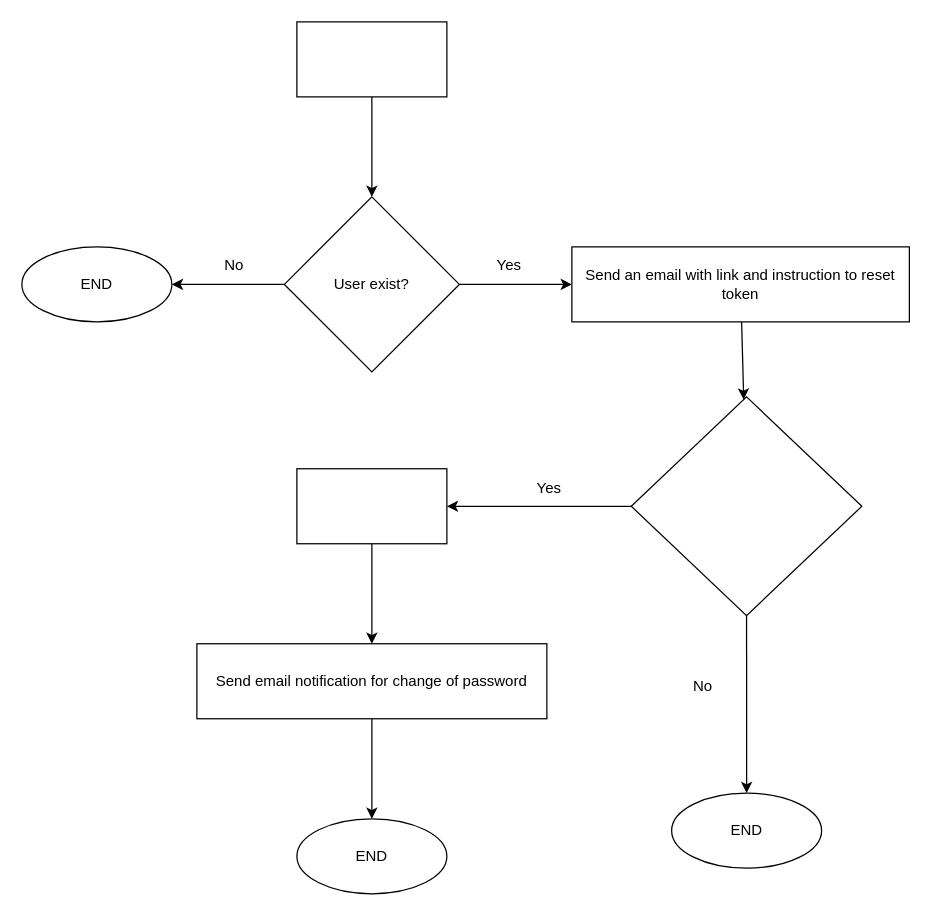
Image size: 931x916. Some labels were removed from this diagram. The shapes that lost their labels are listed below. From the top down, each one's box as (x1, y1, x2, y2) in pixels, then its label:
(296, 21, 447, 97): Request Password Reset
(296, 468, 447, 544): Reset password
(630, 396, 862, 616): Is token and other infos valid ?
